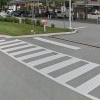crosswalk: (0, 38, 100, 94)
